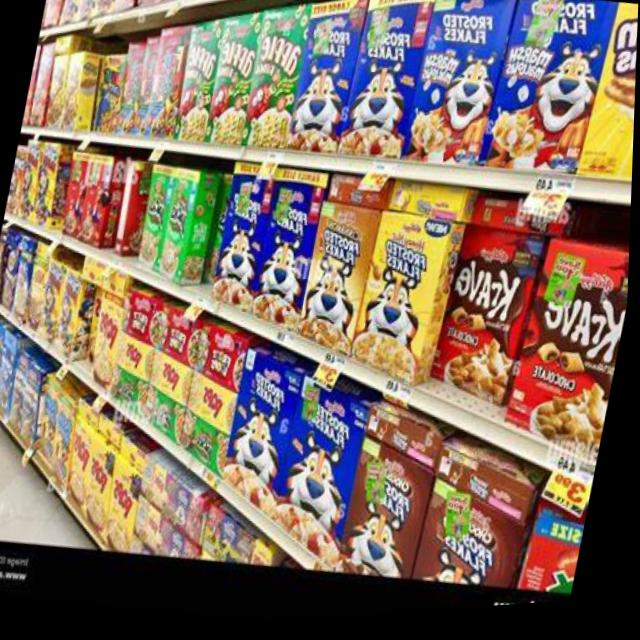Caja: (418, 209, 562, 413), (327, 0, 443, 164), (148, 156, 219, 293)
